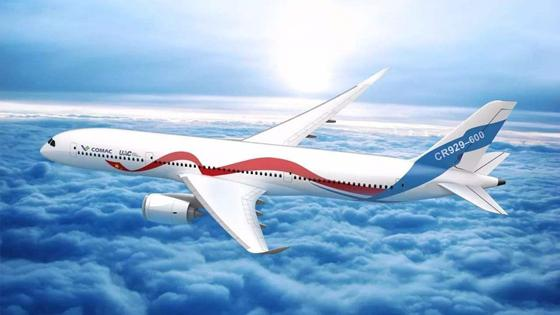airplane: (38, 65, 515, 256)
